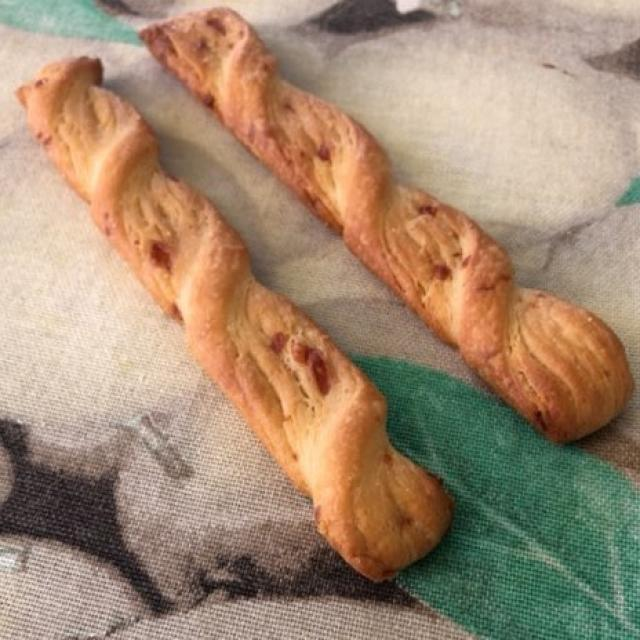puff-pastry: (26, 8, 614, 590)
